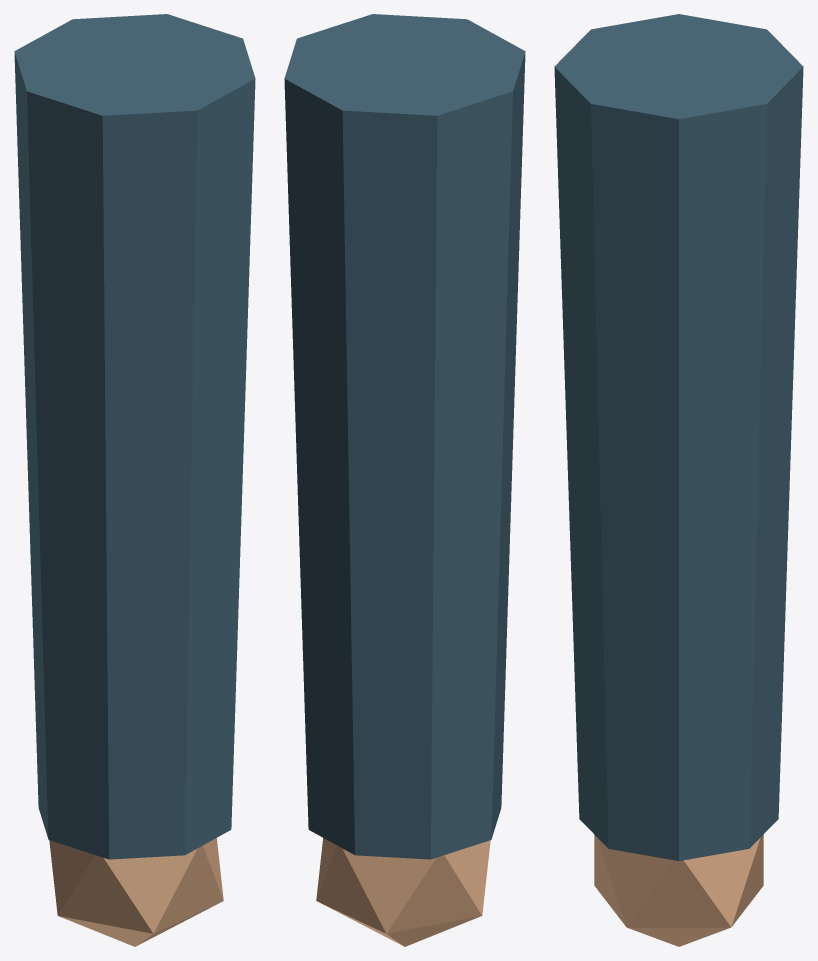
File: insan_k3k_kol.glb
3 views of the same model, side by side, from view 1: azimuth 30°, elevation 25°; view 2: azimuth 150°, elevation 25°; view 3: azimuth 270°, elevation 25° (orthographic).
Visible parts, largest first — view 1: Cone; view 2: Cone; view 3: Cone.
Part boxes in pixels (box(x1,y1,x2,y2)): Cone: box(14, 14, 255, 946); Cone: box(284, 14, 525, 946); Cone: box(554, 14, 803, 946).
Size of the model in its own units: 0.03 by 0.117 by 0.03.
